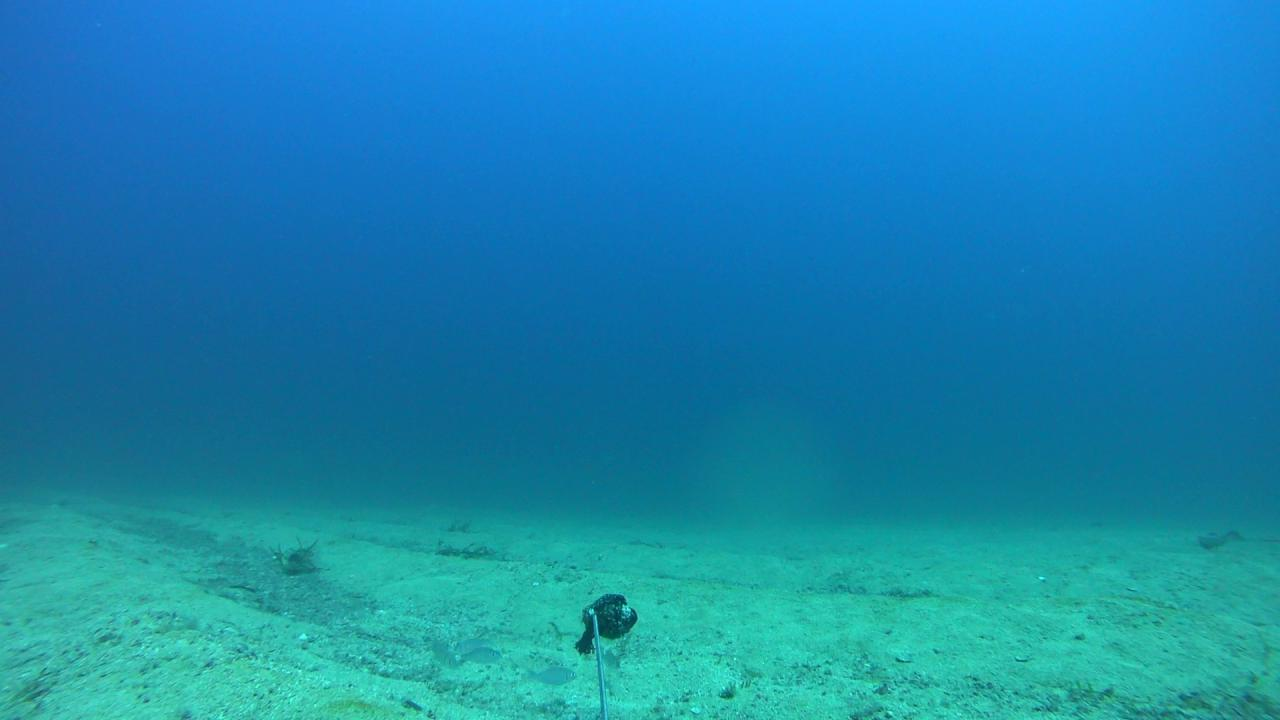pagellus: (527, 667, 578, 686), (430, 640, 460, 669), (456, 648, 500, 663)
